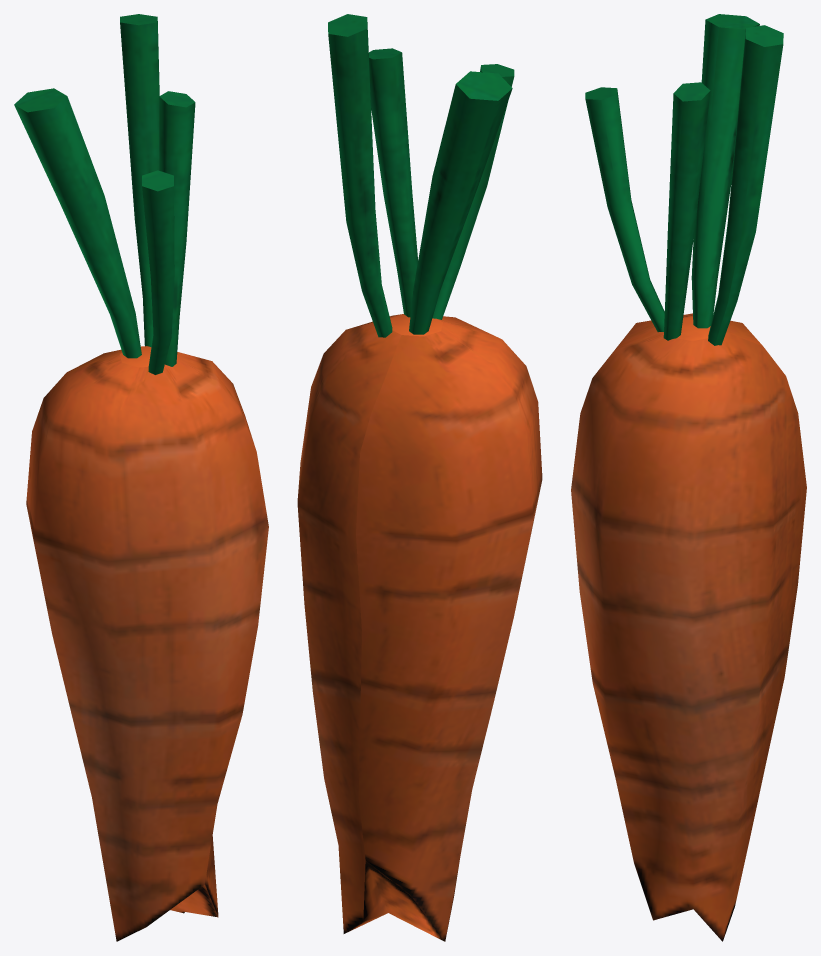
Rendered from carrot.obj.
3 renders of one model, left to right at view 1: azimuth 30°, elevation 25°; view 2: azimuth 150°, elevation 25°; view 3: azimuth 270°, elevation 25°, orthographic. The views are drawn at different scales.
Parts seen in each view (by area): view 1: Carrot; view 2: Carrot; view 3: Carrot.
Boxes of the visible parts, x1,y1,x2,y2 form: Carrot: [14, 14, 268, 941]; Carrot: [297, 14, 542, 941]; Carrot: [571, 14, 806, 941].
Size of the model in its own units: 0.1319 by 0.506 by 0.1206.
